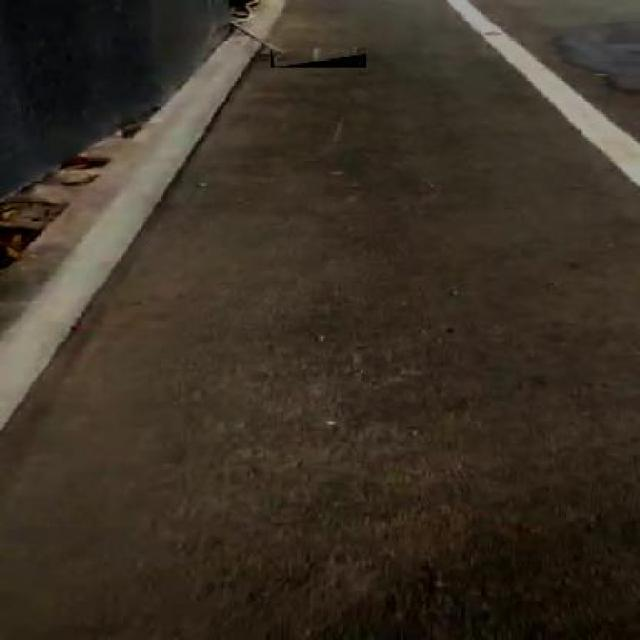Manhole: (271, 48, 367, 68)
